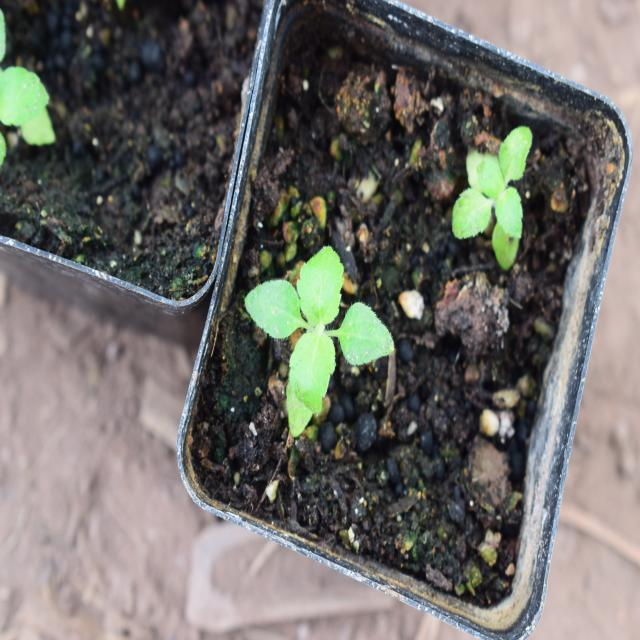billygoat_weed: (258, 261, 388, 450), (456, 119, 536, 284)
